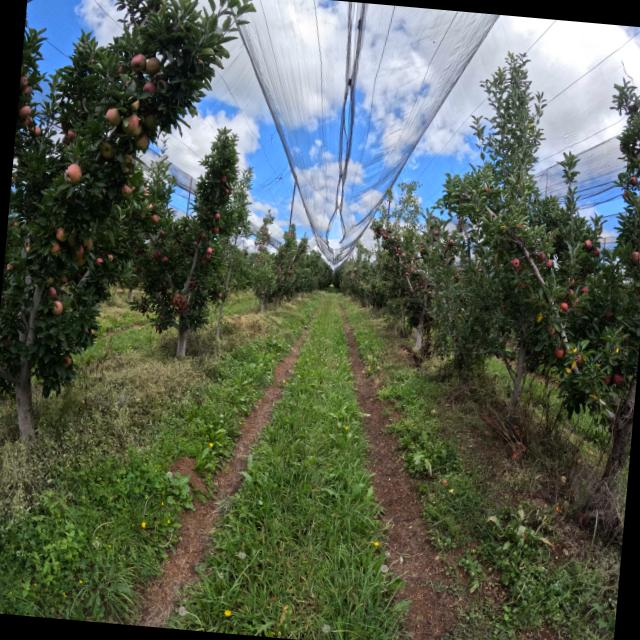-FireBlight-: (170, 293, 186, 314)
